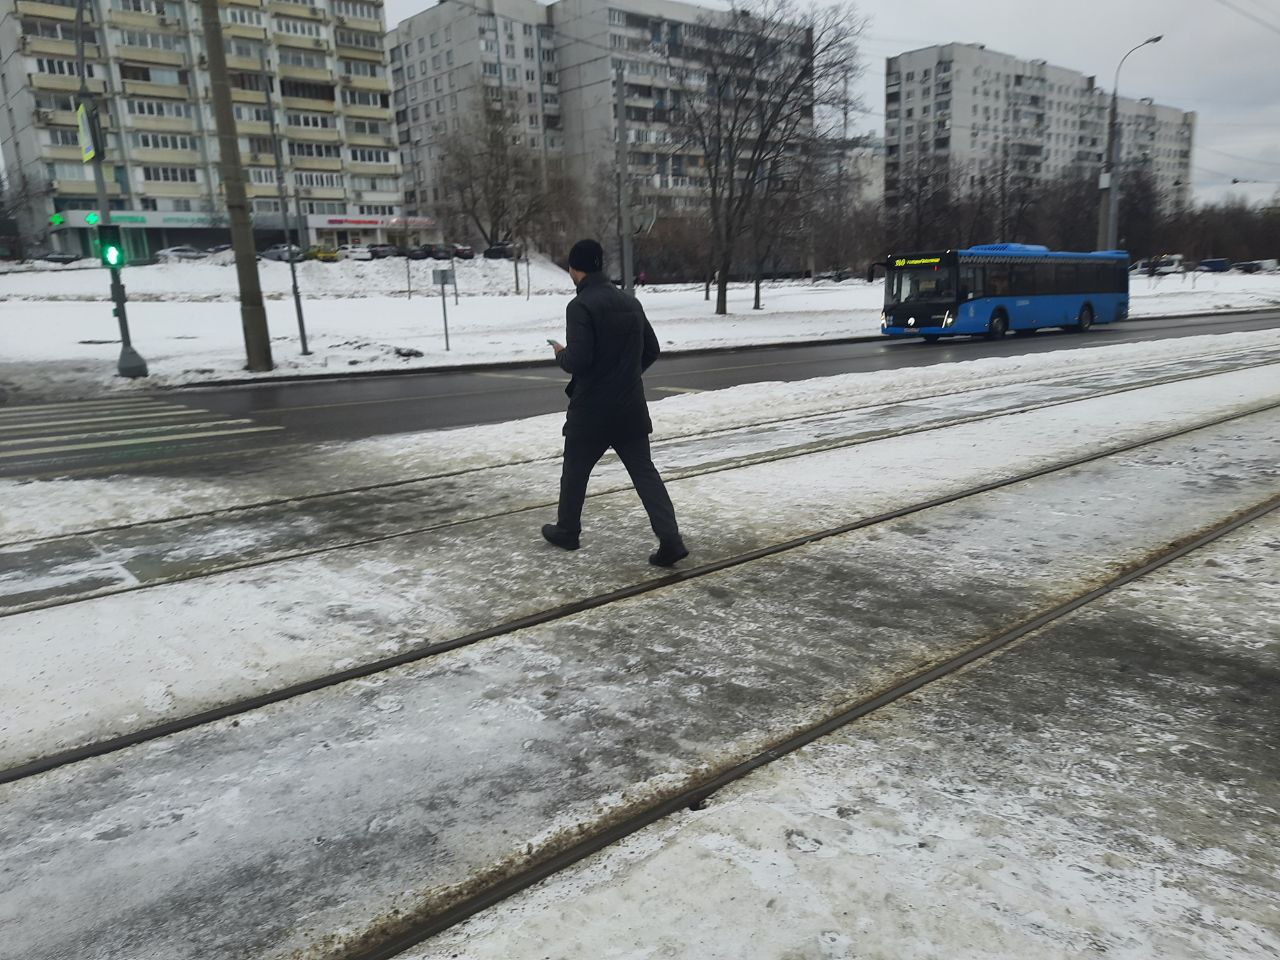sombie: (529, 231, 721, 592)
